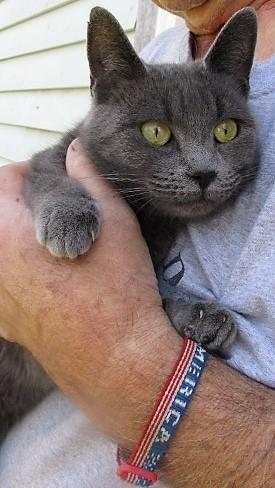rblue: (52, 1, 275, 245)
